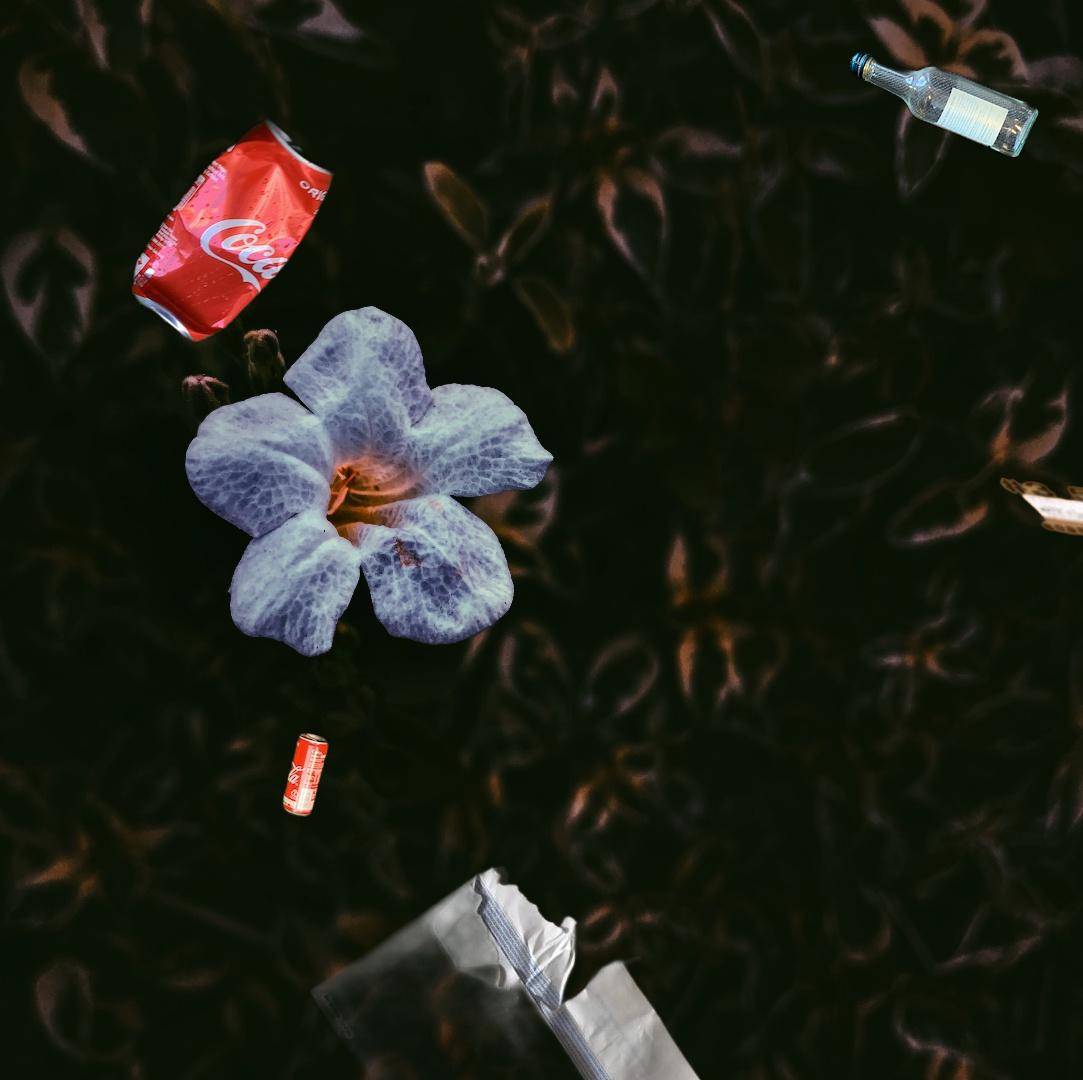glass: (846, 47, 1043, 165)
metal-cans: (126, 111, 340, 348), (279, 727, 334, 822)
paper: (302, 863, 790, 1080)
trashbox-cardboard: (964, 474, 1083, 545)
